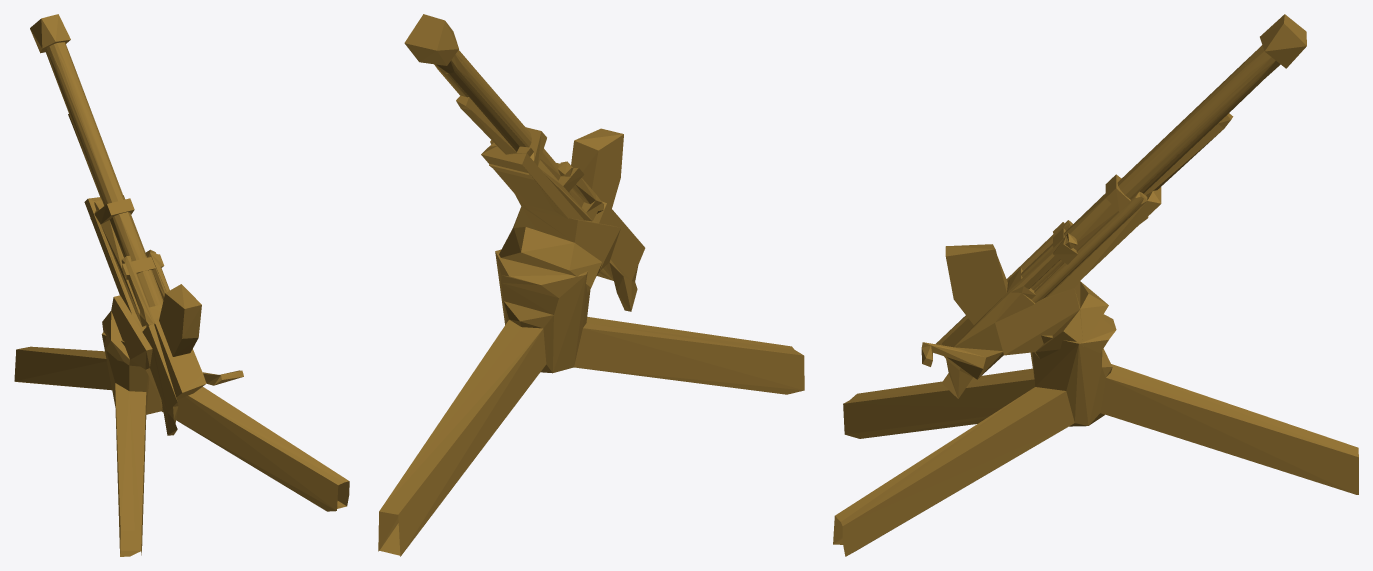
File: Type9820mmLOD0.glb
3 views of the same model, side by side, from view 1: azimuth 30°, elevation 25°; view 2: azimuth 150°, elevation 25°; view 3: azimuth 270°, elevation 25° (orthographic). The views are drawn at different scales.
Visible parts, largest first — view 1: type_98_gun3merged; view 2: type_98_gun3merged; view 3: type_98_gun3merged.
Part boxes in pixels (left/top/right/bottom): type_98_gun3merged: left=14, top=14, right=349, bottom=556; type_98_gun3merged: left=378, top=14, right=804, bottom=556; type_98_gun3merged: left=833, top=14, right=1358, bottom=556.
Bounding box in the file's own units: 3.54 × 5.86 × 5.95.
